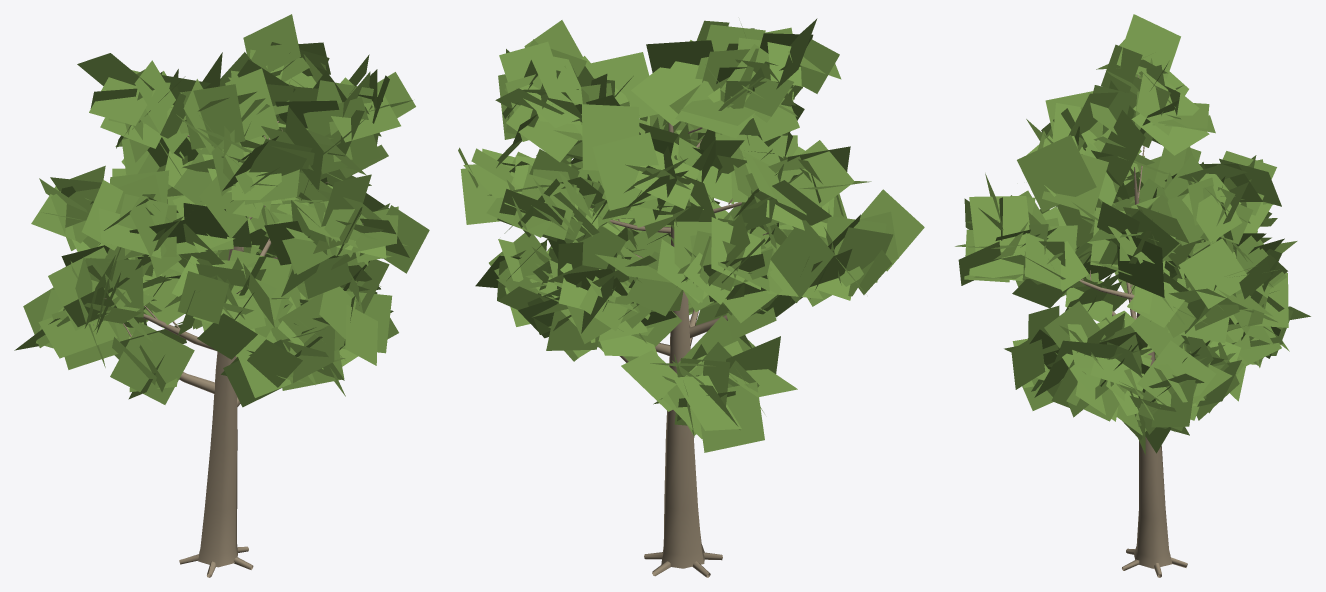
Rendered from oak-4-lod1.glb.
3 views of the same model, side by side, from view 1: azimuth 30°, elevation 25°; view 2: azimuth 150°, elevation 25°; view 3: azimuth 270°, elevation 25° (orthographic). The views are drawn at different scales.
Visible parts, largest first — view 1: oak-4-lod1-foliage, oak-4-lod1-bark; view 2: oak-4-lod1-foliage, oak-4-lod1-bark; view 3: oak-4-lod1-foliage, oak-4-lod1-bark.
Part boxes in pixels (x1,y1,x2,y2): oak-4-lod1-foliage: (14,14,429,407); oak-4-lod1-bark: (93,121,363,577); oak-4-lod1-foliage: (458,18,924,452); oak-4-lod1-bark: (590,123,771,577); oak-4-lod1-foliage: (955,14,1310,454); oak-4-lod1-bark: (1079,74,1248,577).
Bounding box in the file's own units: 15.44 × 22.23 × 14.51.
